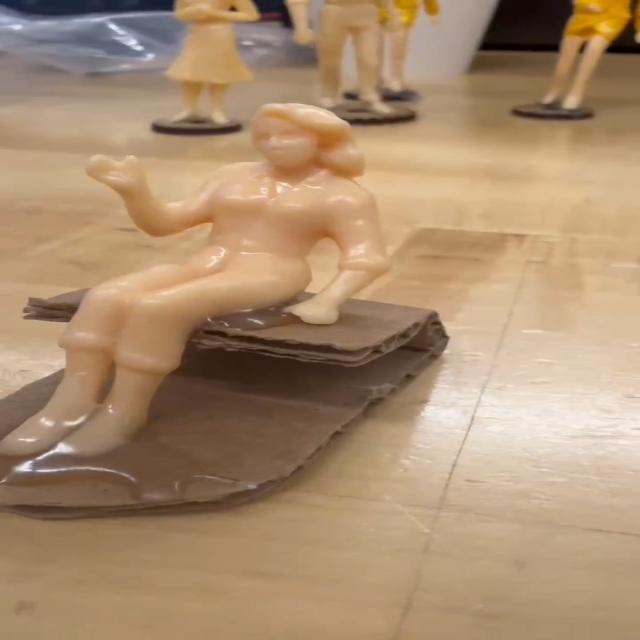Unauthorized: (0, 90, 431, 462)
